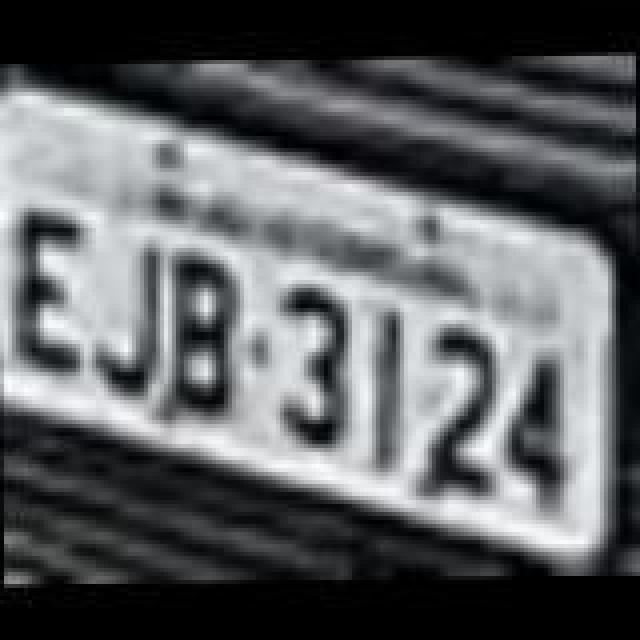1: (370, 302, 414, 474)
2: (424, 322, 504, 502)
3: (276, 282, 364, 454)
4: (496, 346, 584, 518)
B: (170, 252, 246, 420)
E: (18, 200, 86, 368)
J: (88, 236, 168, 404)
